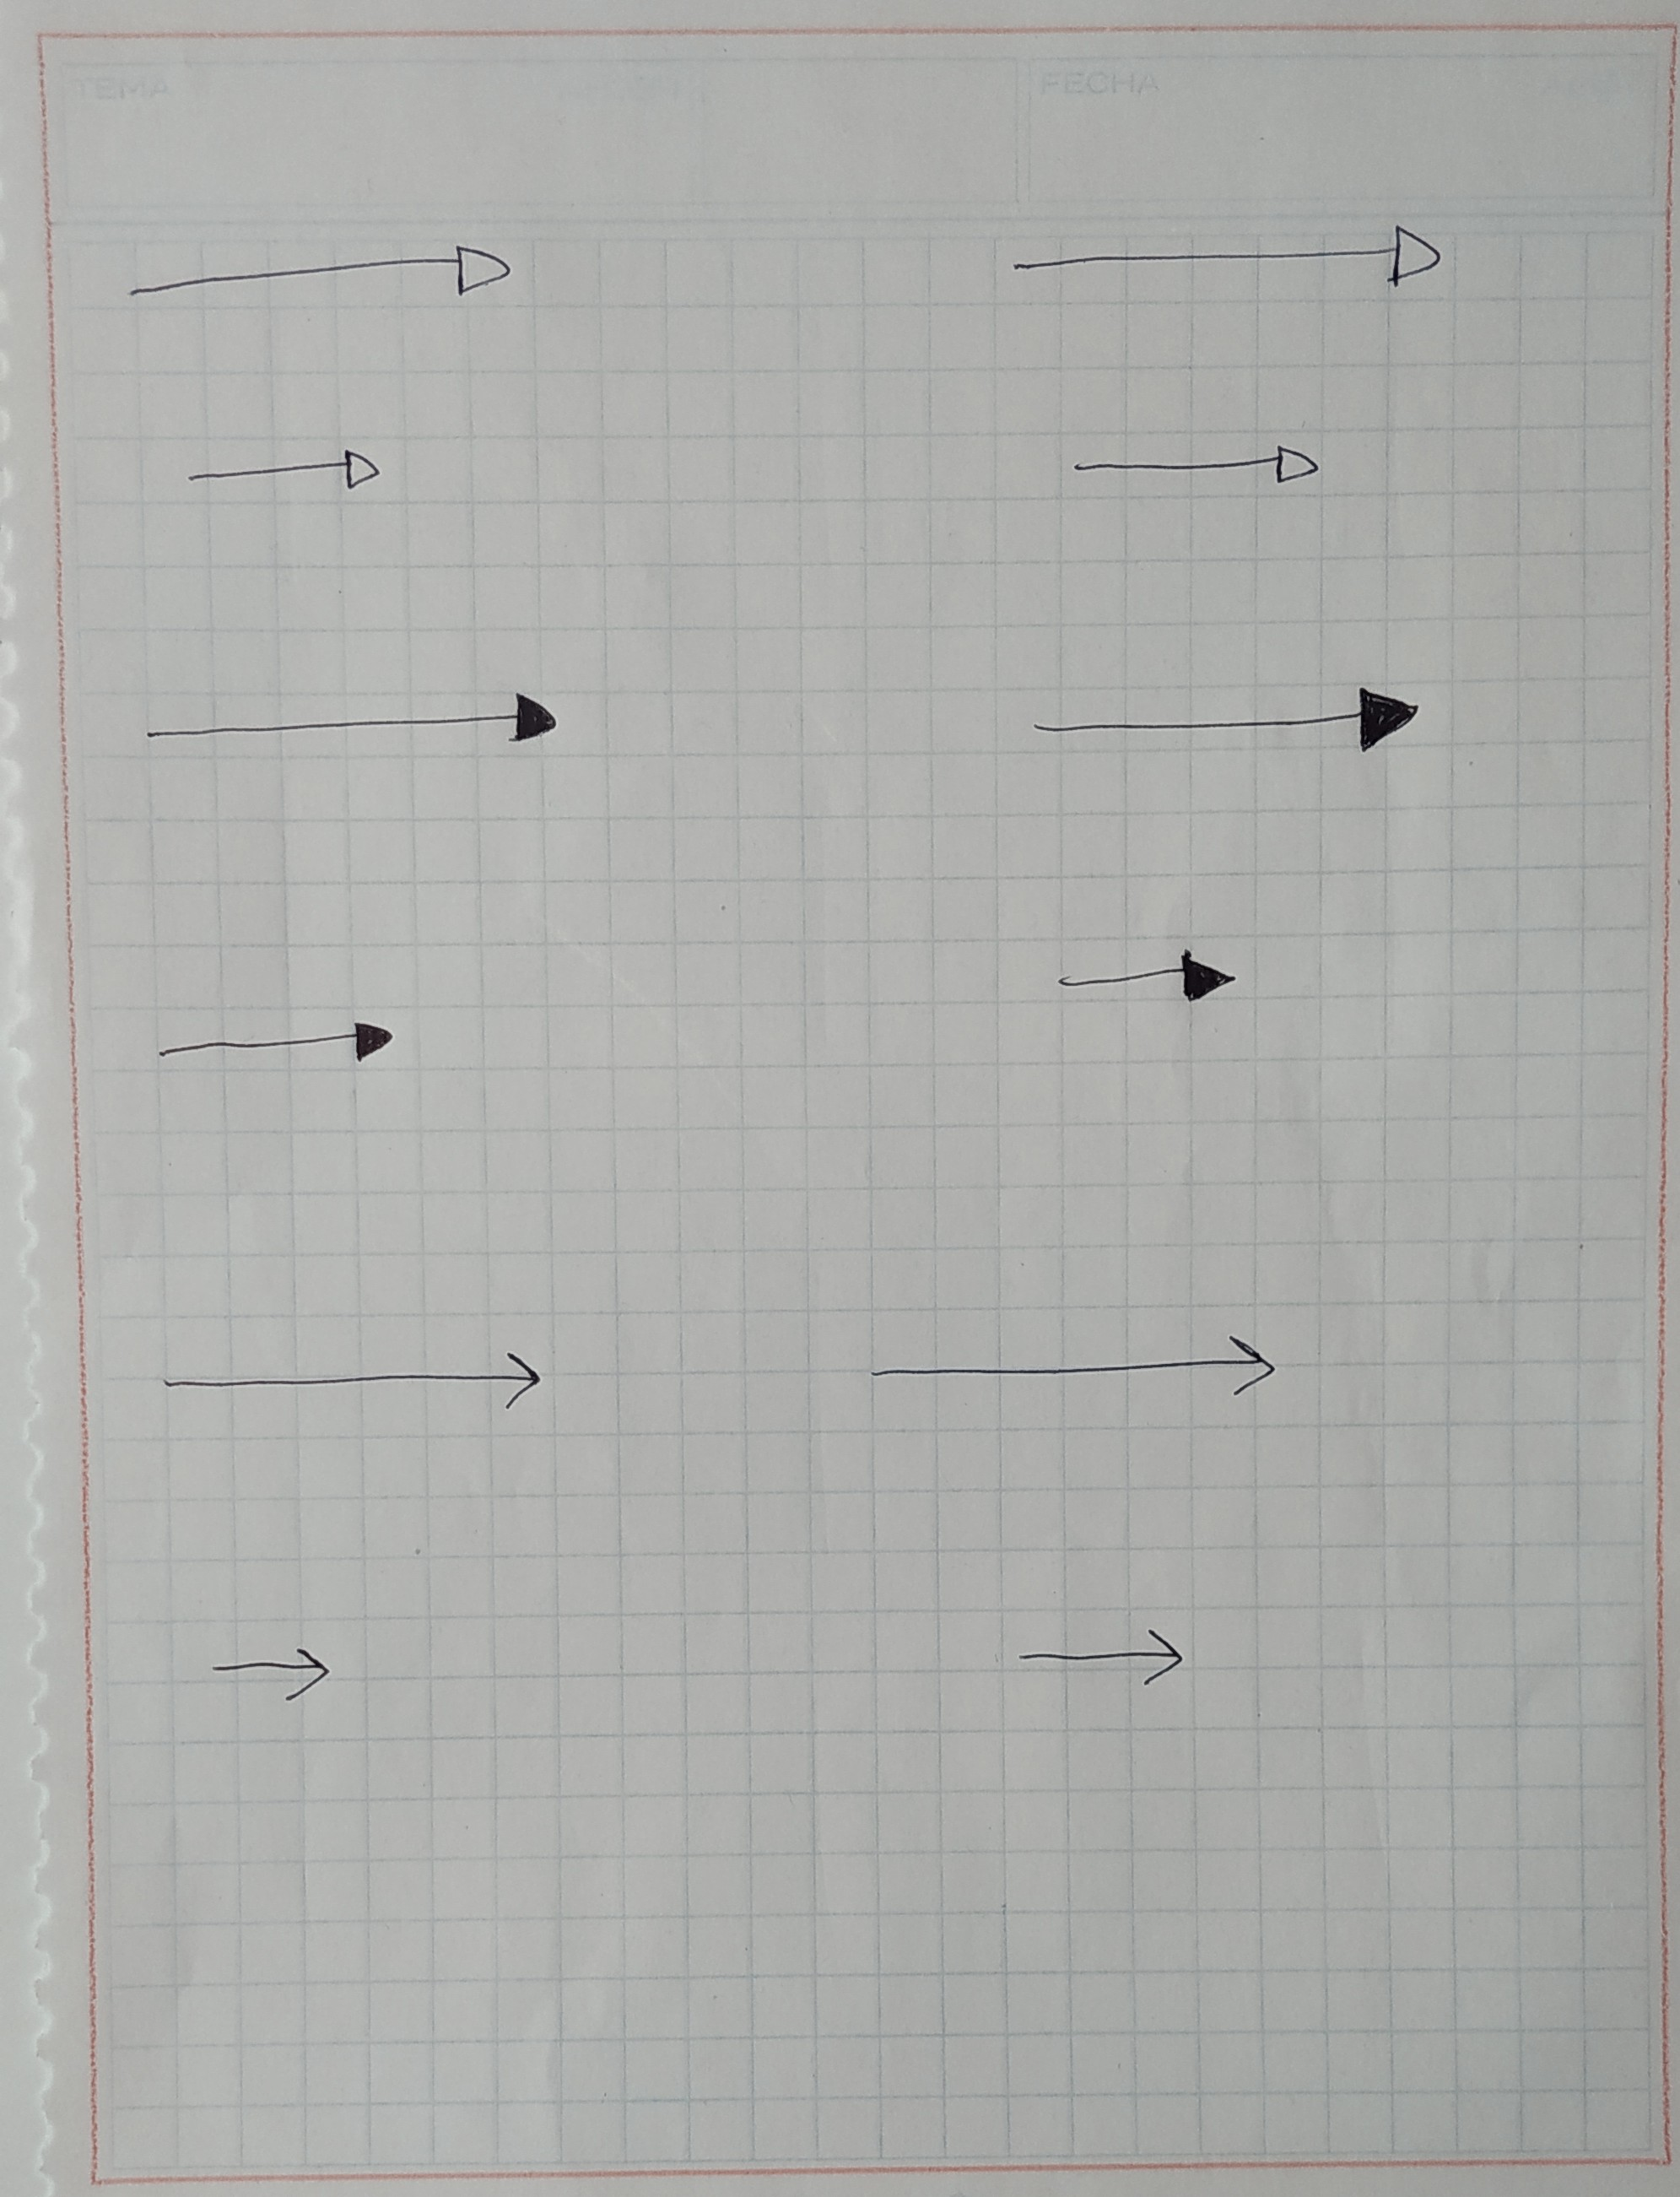arrow_line_right: (865, 1325, 1279, 1410), (1004, 217, 1447, 295), (139, 685, 568, 757), (1029, 686, 1429, 762), (125, 236, 519, 312), (159, 1339, 549, 1415), (1066, 431, 1329, 494), (152, 1008, 401, 1073), (1009, 1620, 1191, 1691), (1050, 946, 1239, 1006), (184, 445, 386, 499), (199, 1639, 328, 1705)
